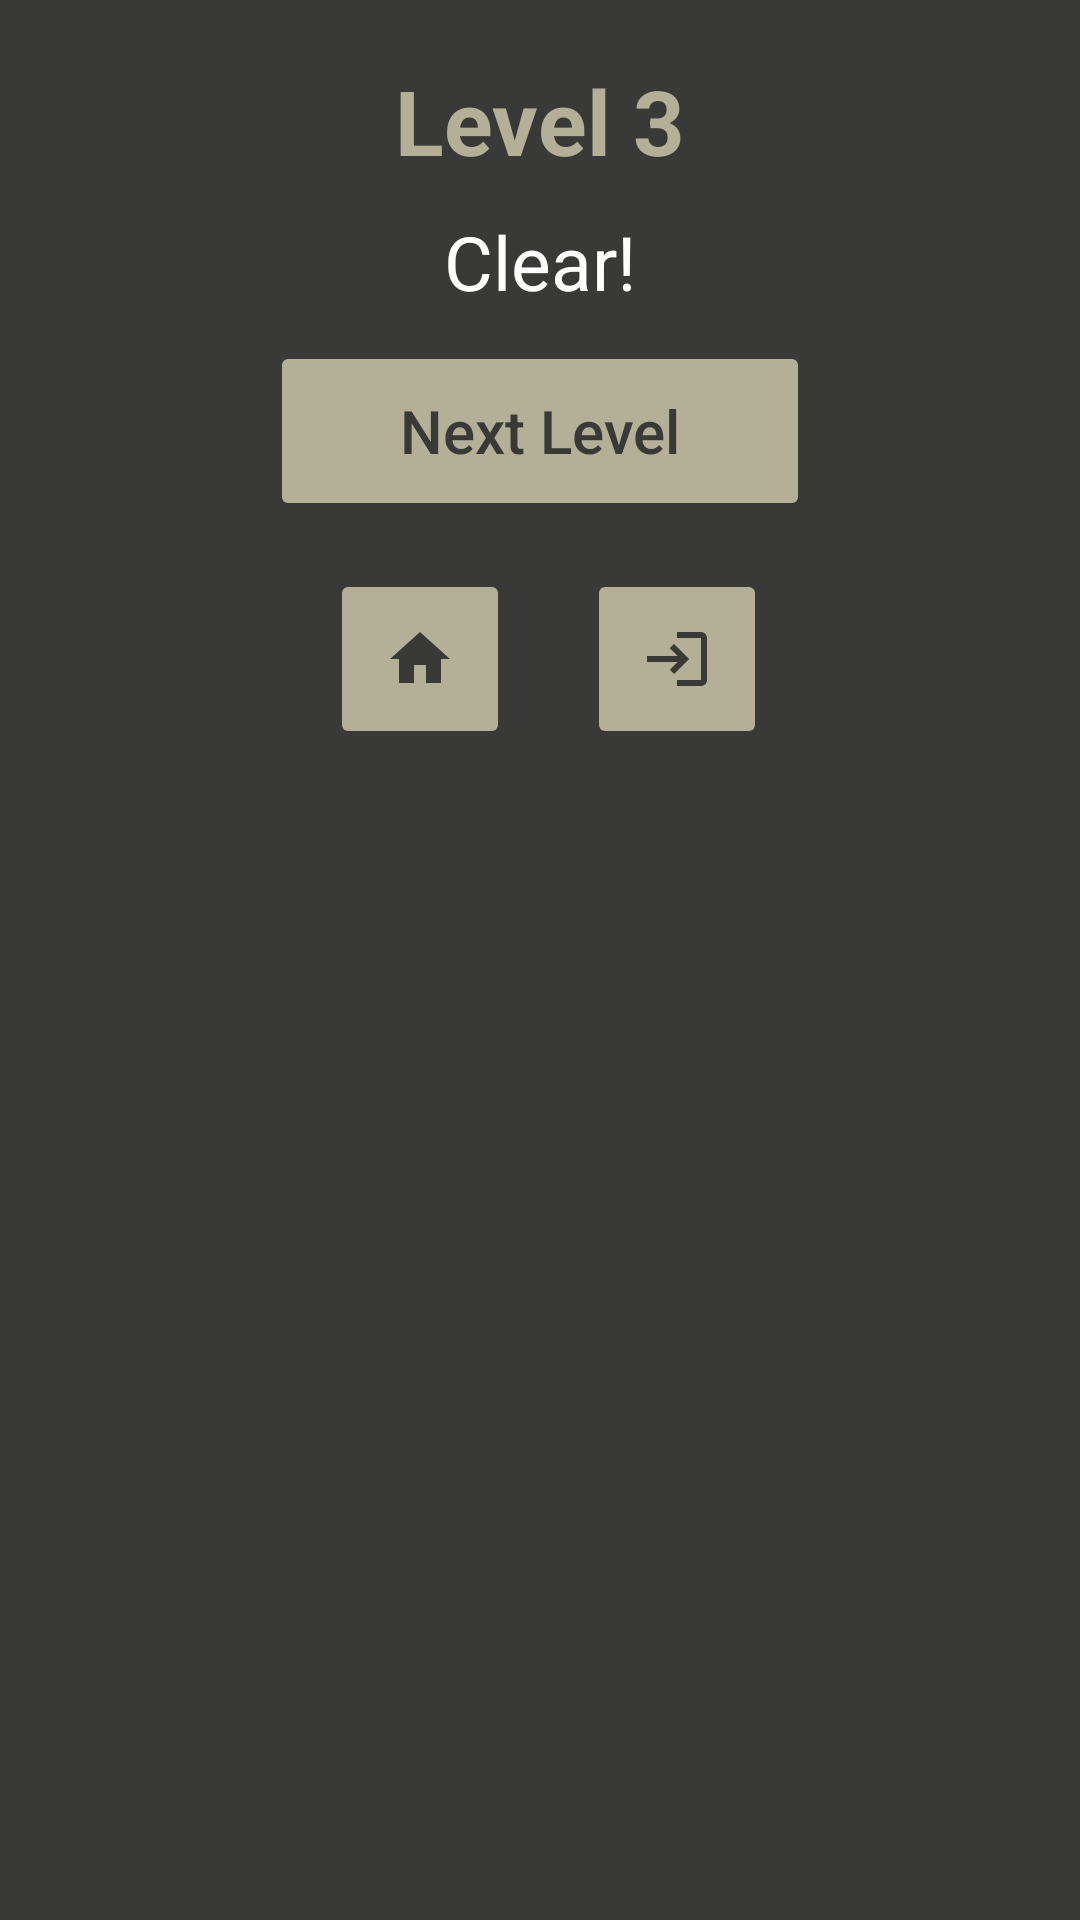

Icon bounding boxes for this 1080 × 1920 phone screenshot, format {"x1": x1, "y1": y1, "x2": x2, "y2": y2}:
home: {"x1": 342, "y1": 587, "x2": 498, "y2": 731}
